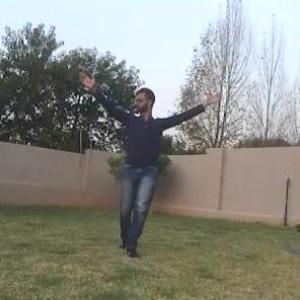takeoff: (71, 64, 220, 251)
